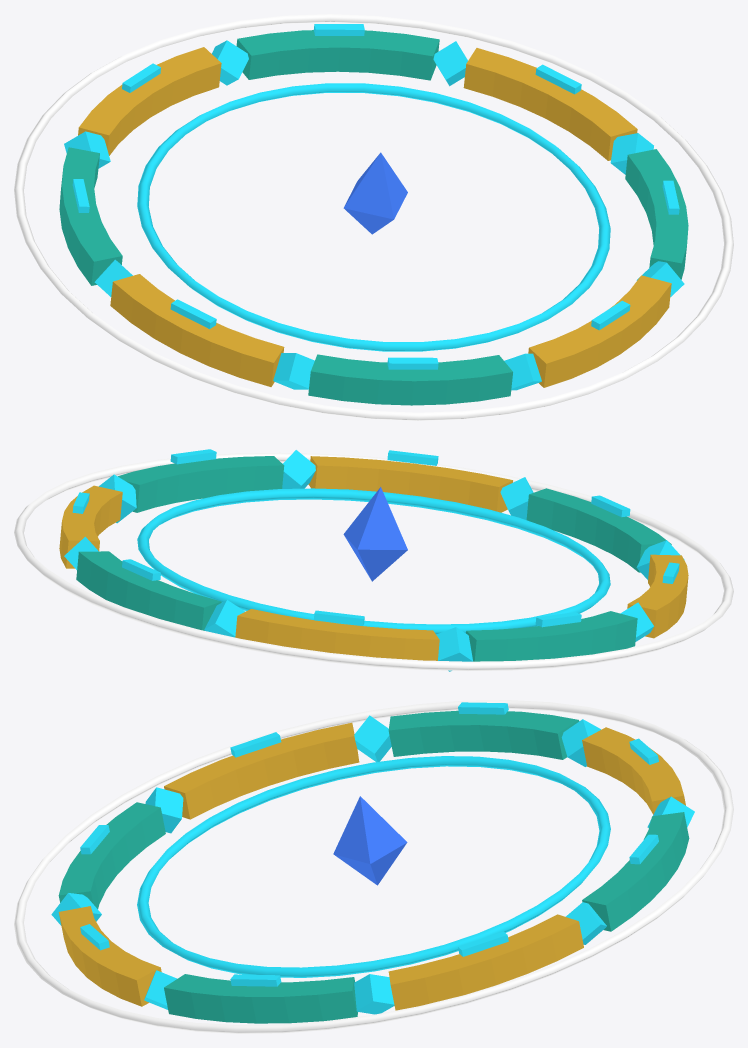
The model's file is ai_relic_halo.glb.
The picture shows the model from 3 angles, top to bottom: view 1: azimuth 30°, elevation 25°; view 2: azimuth 150°, elevation 25°; view 3: azimuth 270°, elevation 25°; orthographic projection.
Visible parts, largest first — view 1: ai_relic_halo; view 2: ai_relic_halo; view 3: ai_relic_halo.
Part boxes in pixels (x1,y1,x2,y2): ai_relic_halo: (14, 14, 733, 420); ai_relic_halo: (14, 449, 733, 671); ai_relic_halo: (14, 700, 733, 1033).
Bounding box in the file's own units: 1.74 × 0.3715 × 1.72.
1 material, 1 textured.
